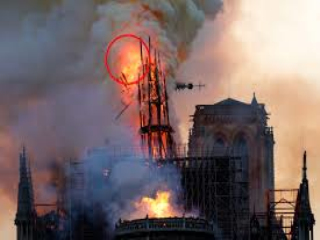fire: (108, 39, 171, 130), (139, 193, 178, 219)
smoke: (123, 3, 229, 49)
